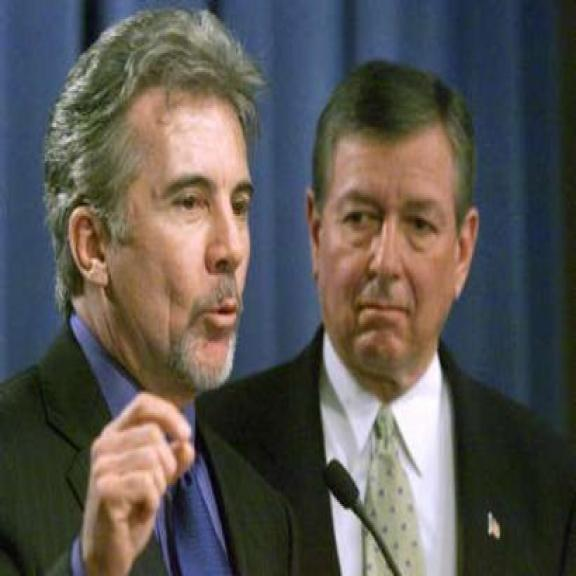face: (62, 81, 257, 398), (301, 120, 482, 380)
